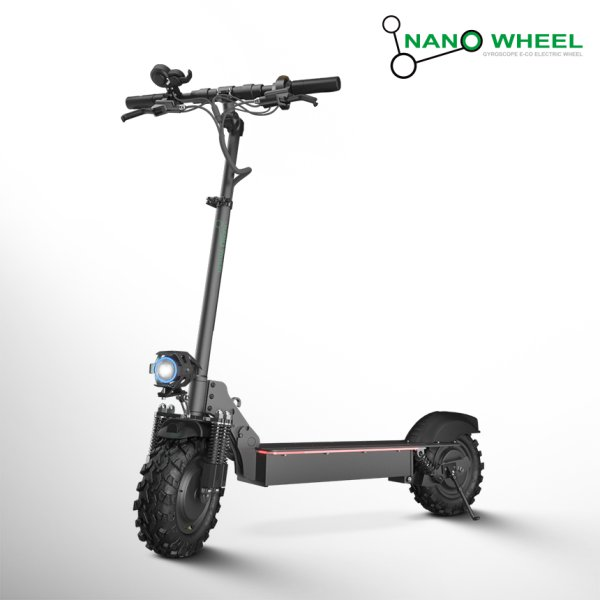scooter: (105, 65, 483, 556)
